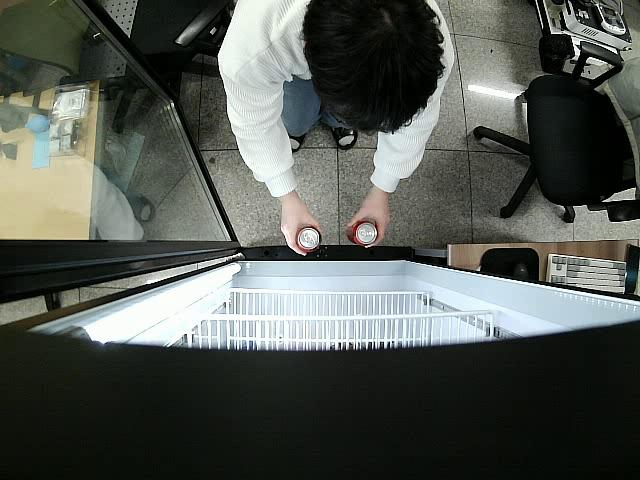00_hand: (347, 186, 389, 250), (281, 197, 321, 257)
11_cocaColaZero: (294, 224, 323, 256), (349, 221, 379, 246)
